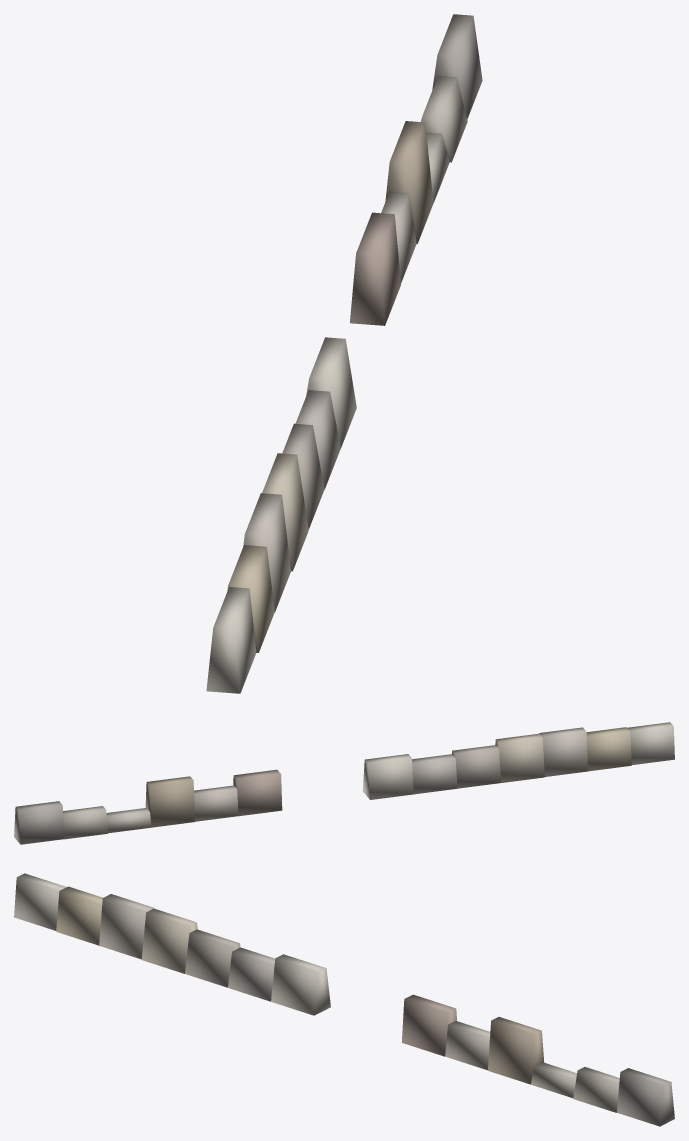
File: farm_-21_-28_collision.glb
The picture shows the model from 3 angles, top to bottom: view 1: azimuth 30°, elevation 25°; view 2: azimuth 150°, elevation 25°; view 3: azimuth 270°, elevation 25°; orthographic projection. The views are drawn at different scales.
Parts seen in each view (by area): view 1: geometry_0; view 2: geometry_0; view 3: geometry_0.
Boxes of the visible parts, x1,y1,x2,y2 form: geometry_0: (206,14,482,693); geometry_0: (14,722,674,844); geometry_0: (14,873,674,1126).
Bounding box in the file's own units: 15.85 × 2.02 × 18.77.
